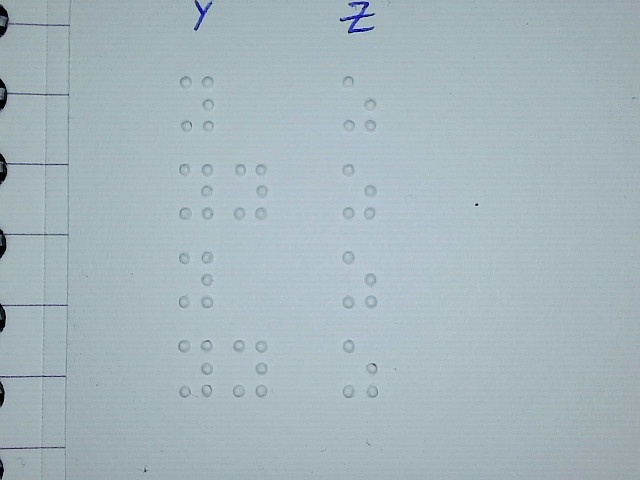Y: (178, 74, 216, 133), (232, 161, 270, 220), (177, 161, 215, 220), (177, 250, 215, 309), (232, 337, 270, 396)
Z: (341, 73, 379, 132), (340, 161, 378, 220), (341, 249, 379, 308), (341, 338, 379, 397)
